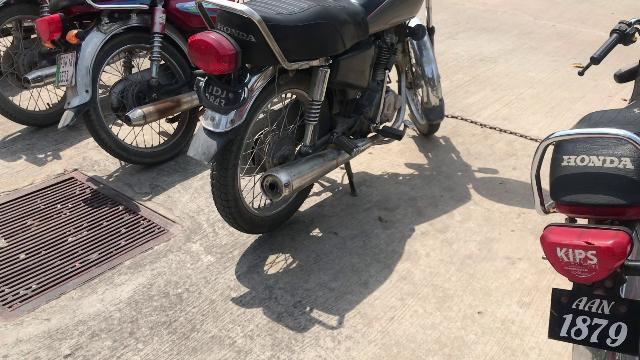plate: (550, 285, 640, 355)
